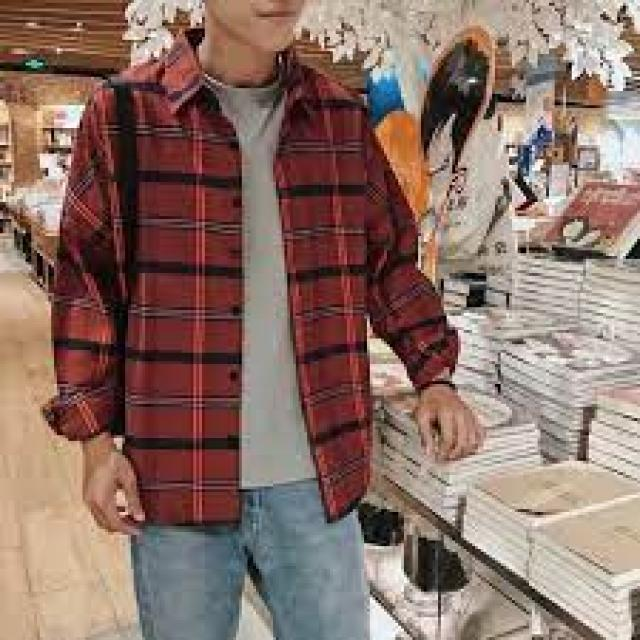plaid: (37, 49, 467, 523)
